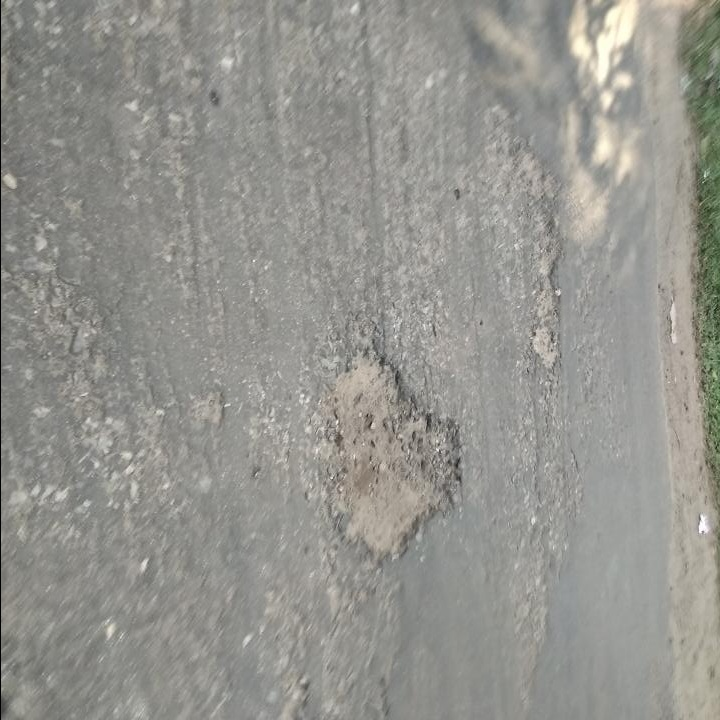pothole: (316, 330, 466, 564), (530, 205, 566, 379)
